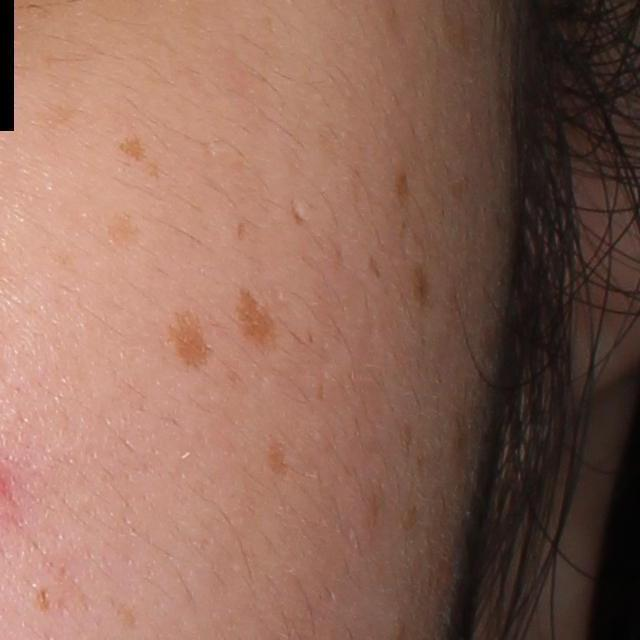atrophic_scar: (289, 198, 311, 229)
melasma: (232, 285, 284, 361), (166, 301, 217, 374), (264, 434, 297, 486), (103, 208, 144, 249), (108, 594, 147, 635), (116, 133, 150, 165), (410, 263, 434, 308), (395, 163, 411, 207), (366, 254, 384, 280), (236, 219, 248, 245)
